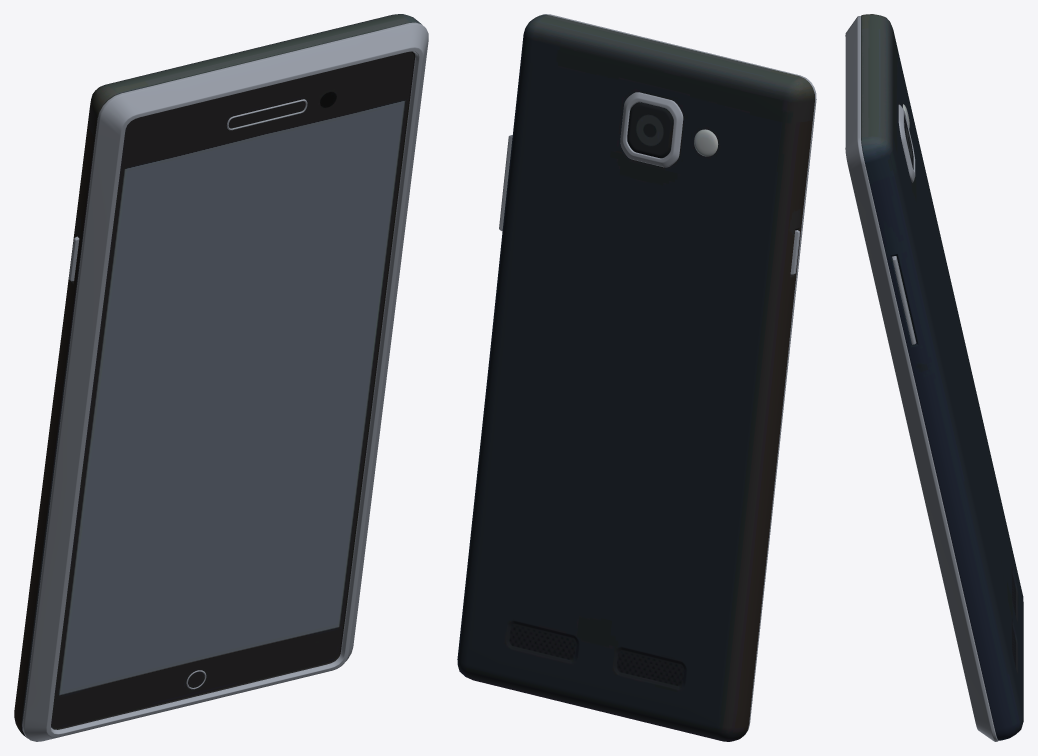
Rendered from phone.fbx.
The picture shows the model from 3 angles, left to right: view 1: azimuth 30°, elevation 25°; view 2: azimuth 150°, elevation 25°; view 3: azimuth 270°, elevation 25°; orthographic projection. The views are drawn at different scales.
Visible parts, largest first — view 1: node_id34; view 2: node_id34; view 3: node_id34.
Boxes of the visible parts, x1,y1,x2,y2 form: node_id34: (14, 14, 428, 741); node_id34: (457, 14, 816, 741); node_id34: (845, 14, 1023, 741).
Bounding box in the file's own units: 0.2508 × 0.5028 × 0.1343.
1 material, 1 textured.
